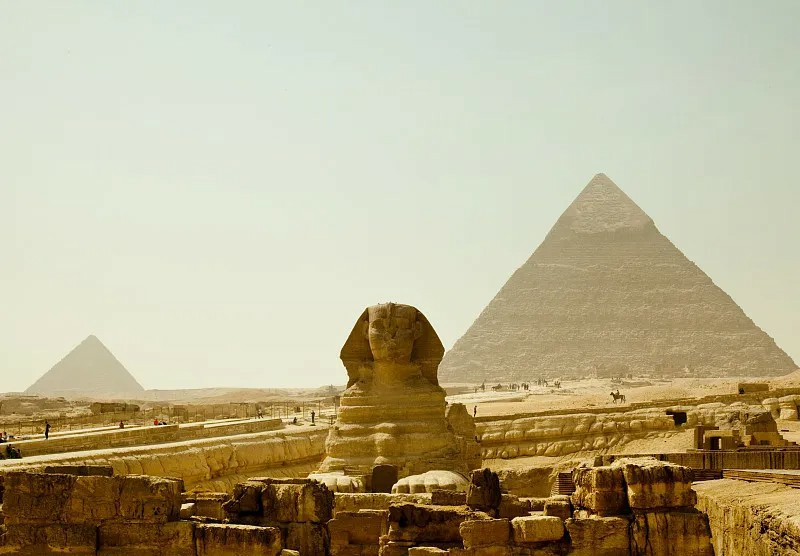Pyramid: (436, 173, 800, 382), (25, 336, 147, 395)
